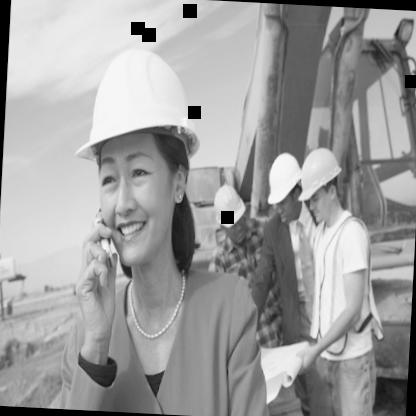helmet: (64, 23, 217, 288), (290, 134, 353, 235), (258, 140, 308, 232), (209, 180, 250, 250)
